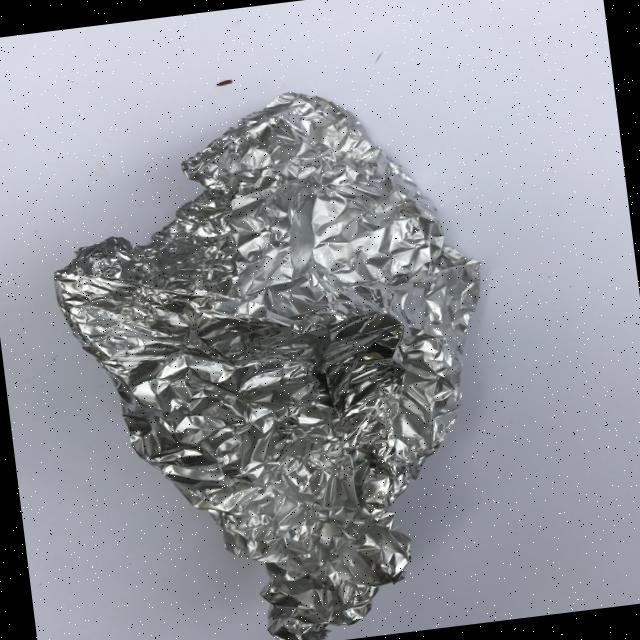metal: (33, 69, 524, 640)
